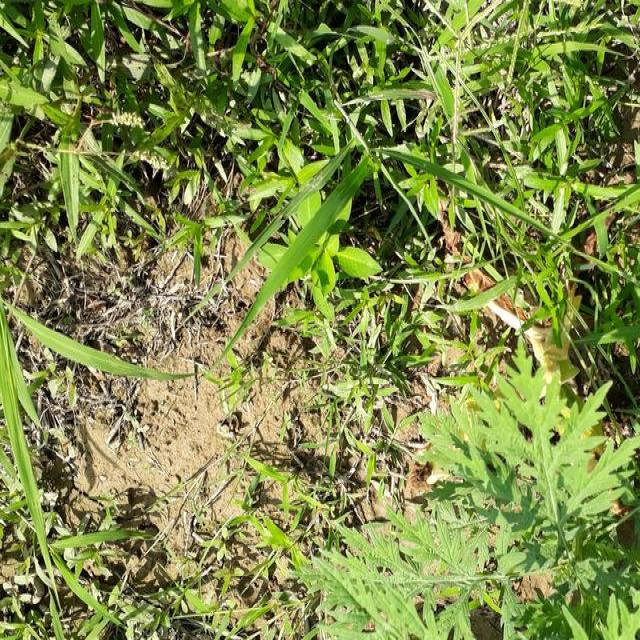weed: (0, 0, 638, 348)
